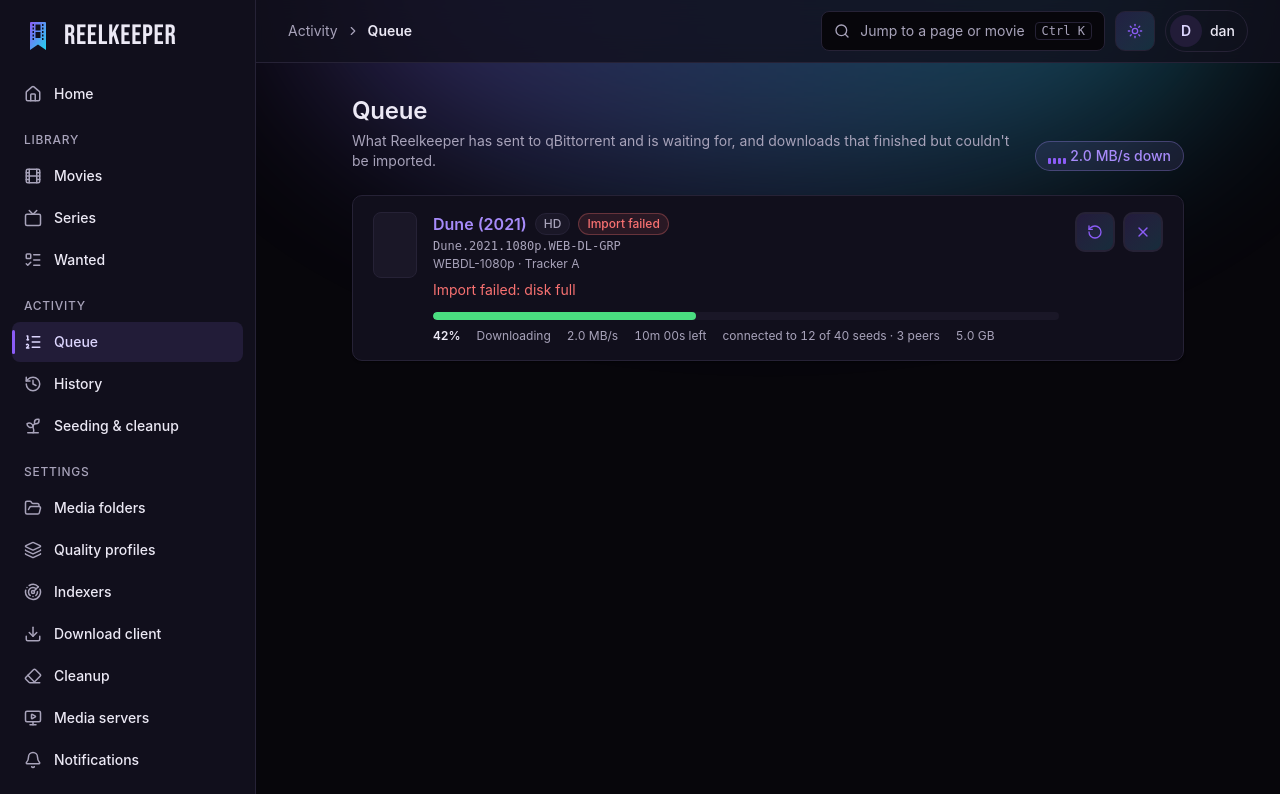
it: queue page › retries a failed import
Expected: the text "Import failed: disk full" is shown, x1=433 y1=281 x2=576 y2=298
What coordinates should you click on to do the following:
click the button named "Retry import"
I would click on:
 (1095, 232)
Its box is x1=1075 y1=212 x2=1115 y2=252.
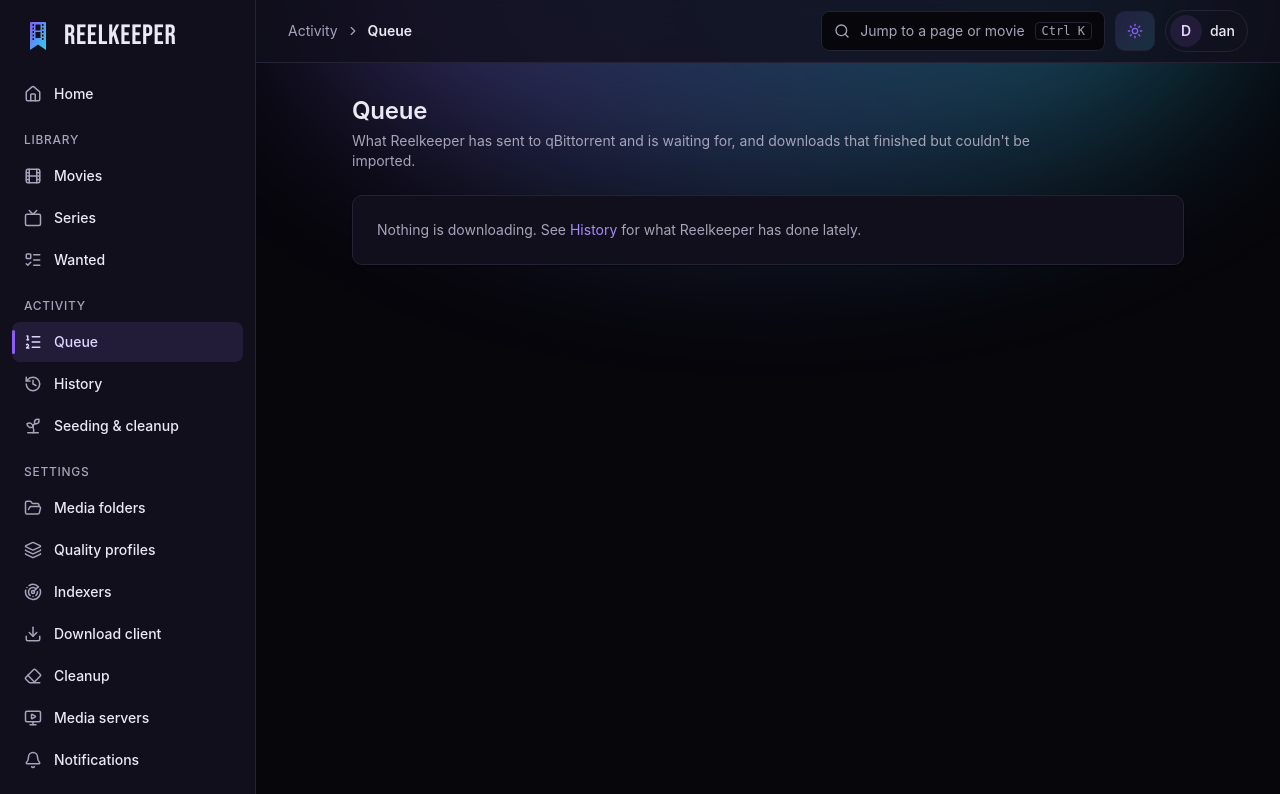
Now the text "Nothing is downloading." is shown, box x1=377 y1=221 x2=566 y2=238
